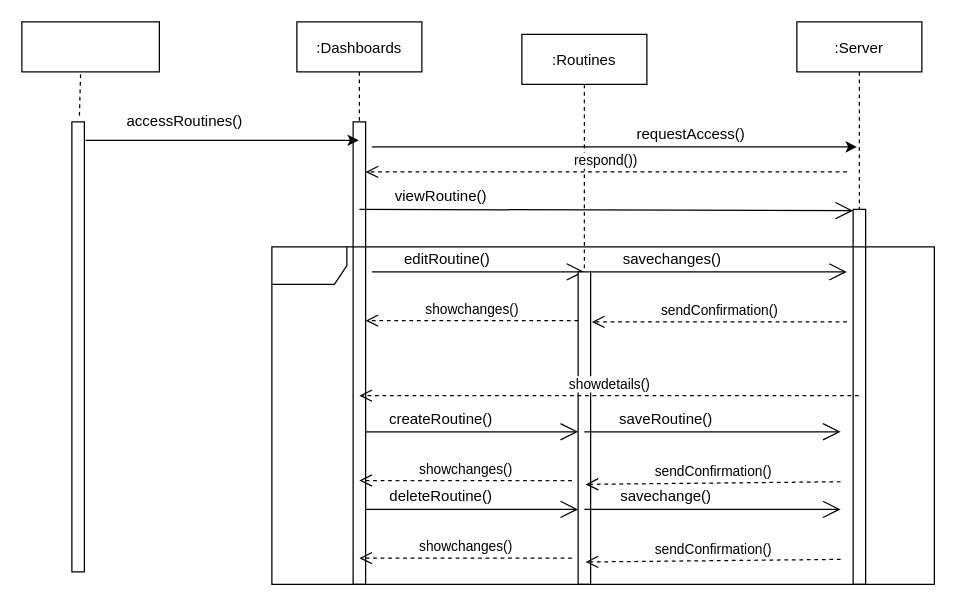
Some shapes in this 956 by 606 pixel diagram are drawn without their labels. The centre of each missing label's shape, as x and y in pixels:
:Trainer Page: point (90, 46)
alt: point (602, 415)
